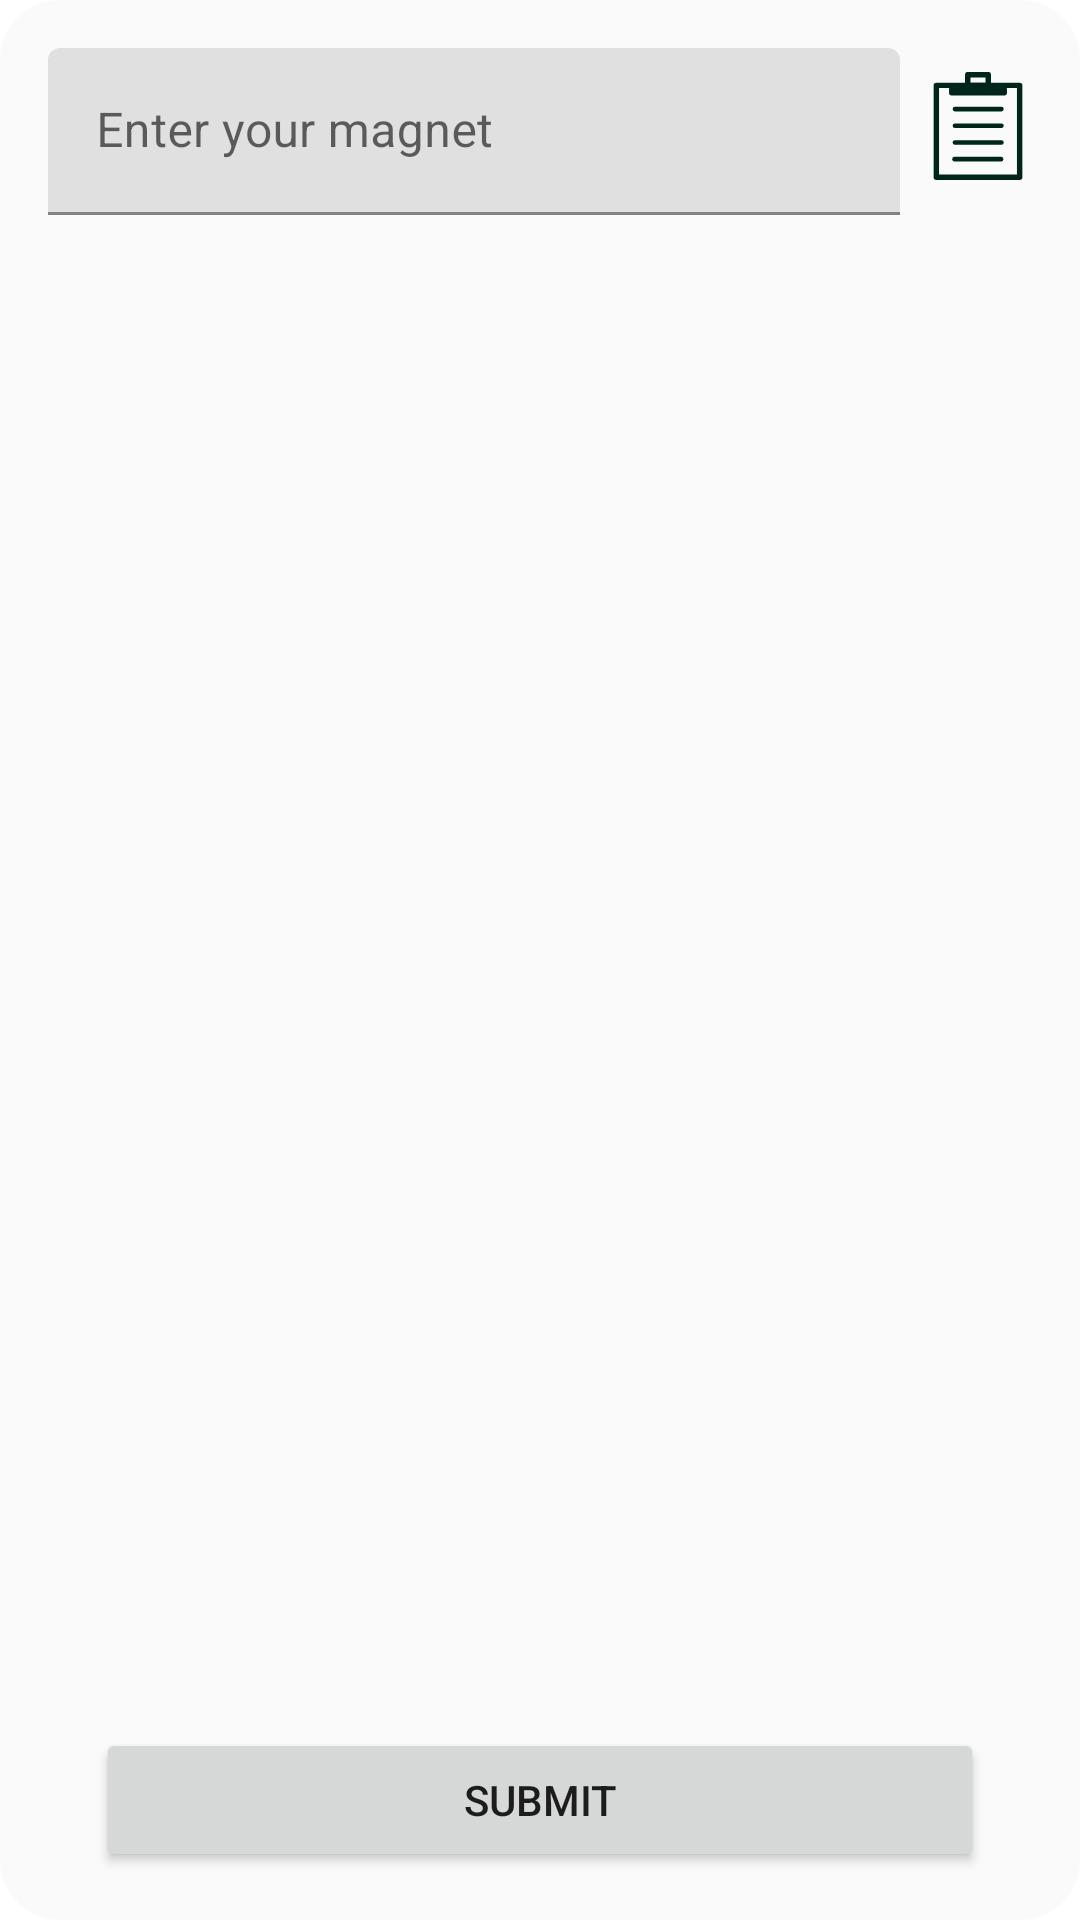

Where to tap for icons on this 1080 × 1920 app screen, as [x,y]:
paste: [978,126]
